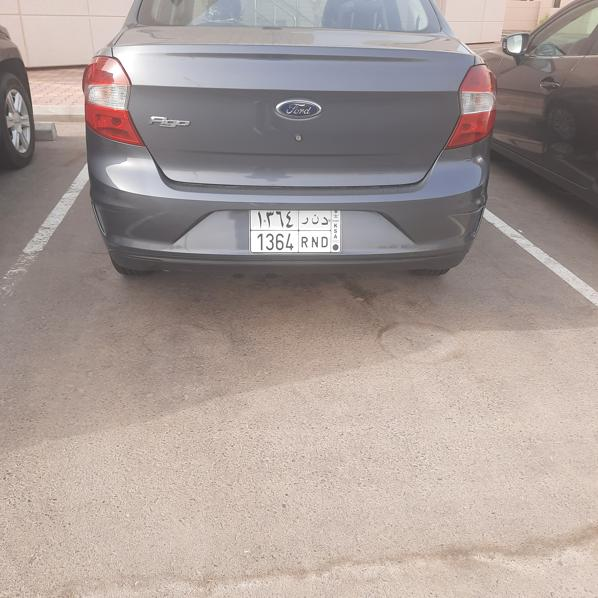numberplate: (251, 209, 341, 253)
